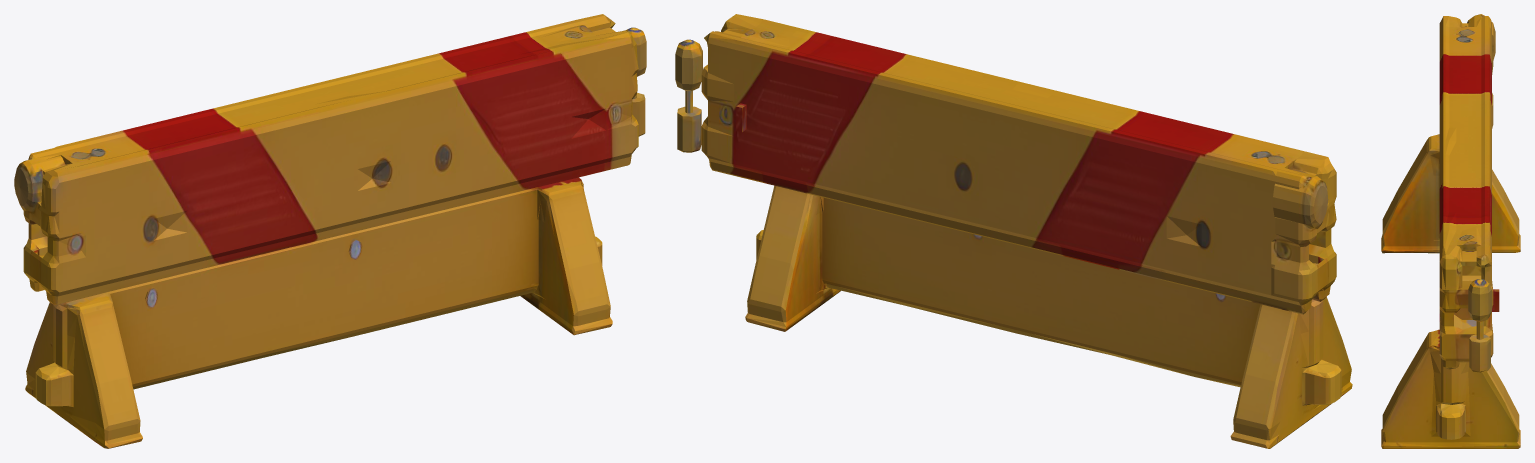
File: barrier_E.glb
3 views of the same model, side by side, from view 1: azimuth 30°, elevation 25°; view 2: azimuth 150°, elevation 25°; view 3: azimuth 270°, elevation 25° (orthographic). The views are drawn at different scales.
Parts seen in each view (by area): view 1: barrier_E; view 2: barrier_E; view 3: barrier_E.
Boxes of the visible parts, left/top/right/bottom form: barrier_E: left=14, top=14, right=646, bottom=448; barrier_E: left=675, top=14, right=1352, bottom=448; barrier_E: left=1381, top=14, right=1520, bottom=448.
Size of the model in its own units: 2.85 by 1.11 by 0.643.
Materials: 1 (1 with a texture image).
